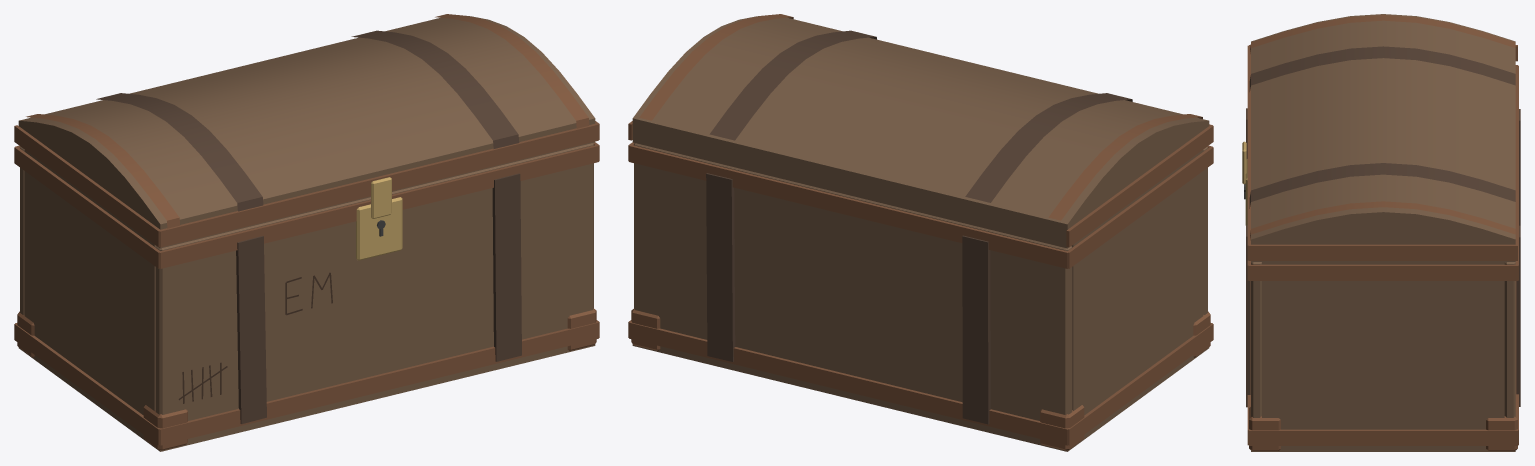
File: trunk.glb
3 views of the same model, side by side, from view 1: azimuth 30°, elevation 25°; view 2: azimuth 150°, elevation 25°; view 3: azimuth 270°, elevation 25° (orthographic). The views are drawn at different scales.
Visible parts, largest first — view 1: trunk_static, MOV_trunk_lid; view 2: trunk_static, MOV_trunk_lid; view 3: MOV_trunk_lid, trunk_static.
Boxes of the visible parts, x1=… form: trunk_static: x1=14, y1=142, x2=599, y2=451; MOV_trunk_lid: x1=14, y1=14, x2=599, y2=248; trunk_static: x1=628, y1=142, x2=1213, y2=451; MOV_trunk_lid: x1=628, y1=14, x2=1213, y2=248; MOV_trunk_lid: x1=1242, y1=14, x2=1517, y2=261; trunk_static: x1=1244, y1=65, x2=1520, y2=451.
Bounding box in the file's own units: 0.862 × 0.485 × 0.505.
